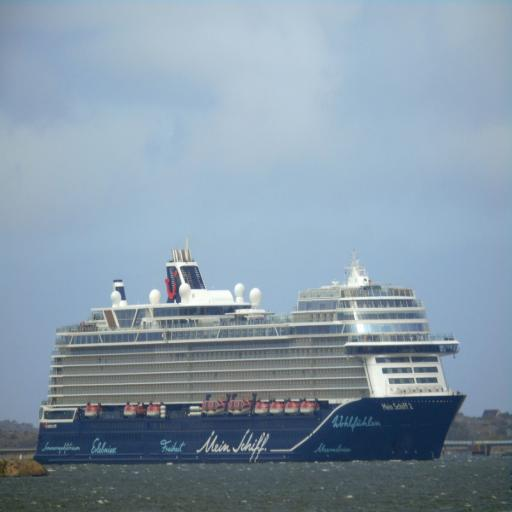cruises: (33, 244, 470, 471)
